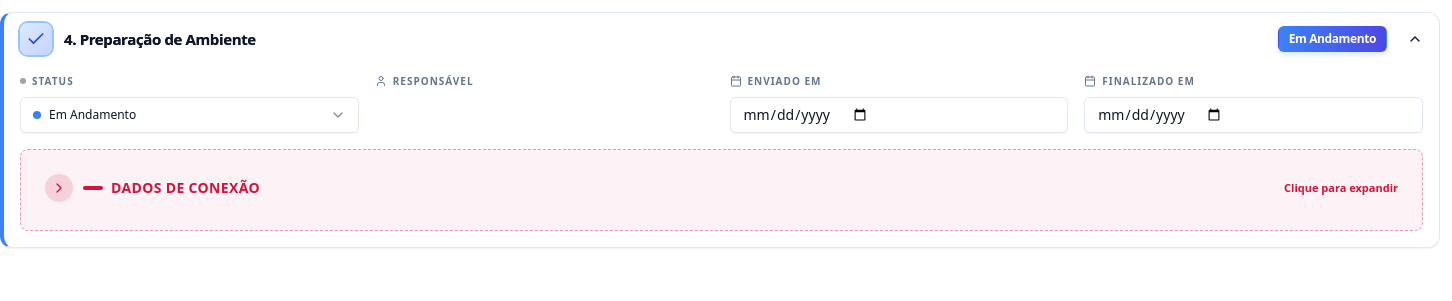
Test: blocos expansíveis da preparação de ambiente › destaca os dados de conexão e mantém seu conteúdo recolhido até o clique
Expected: the text "Campo de conexão" is not shown
Step 1. Click the button with aria-label "Expandir campos específicos" → coordinates (185, 188), box [37,166,1406,210]
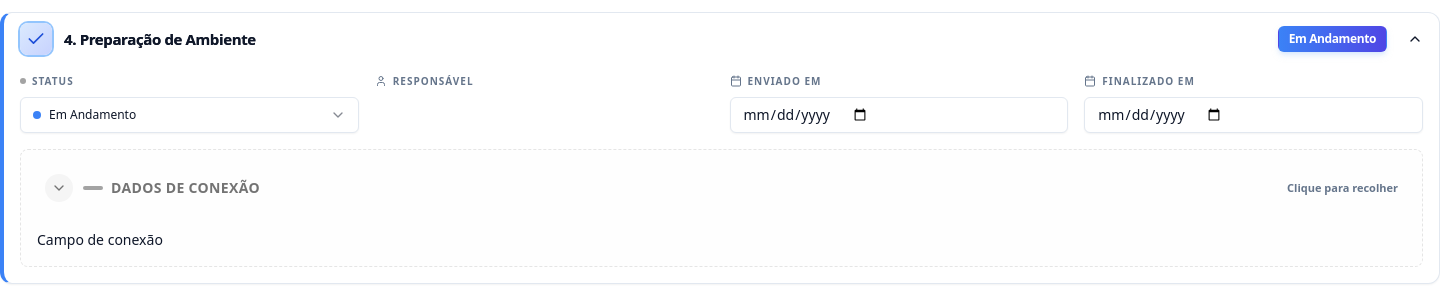
Now the button named "Expandir campos específicos" is expanded, box [37,166,1406,210]
Now the text "Campo de conexão" is shown, box [37,230,163,249]
